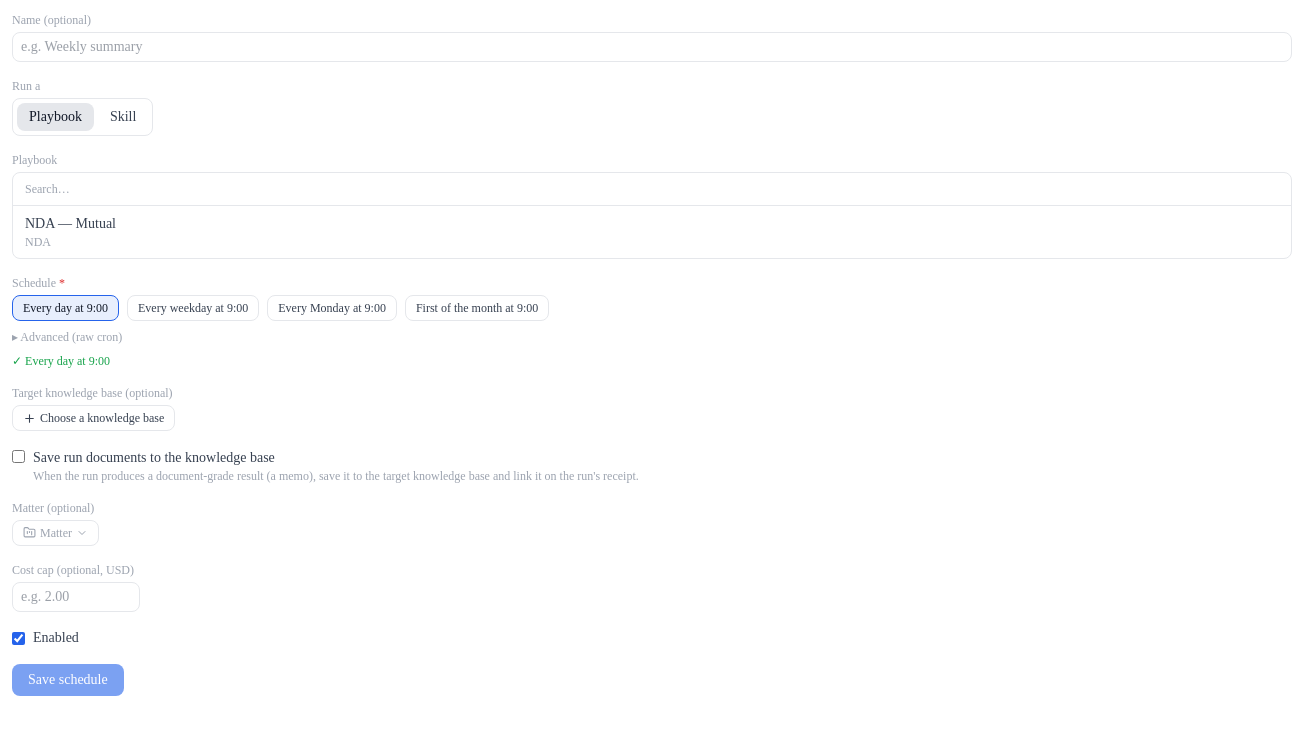
Test case: ScheduleForm › enables Save only once a source is chosen and the cron is valid
The image size is (1304, 732).
Expected: the button "Save schedule" is disabled, left=12, top=664, right=124, bottom=696
Click the button "NDA — Mutual NDA" at (70, 224), box left=13, top=206, right=1291, bottom=258
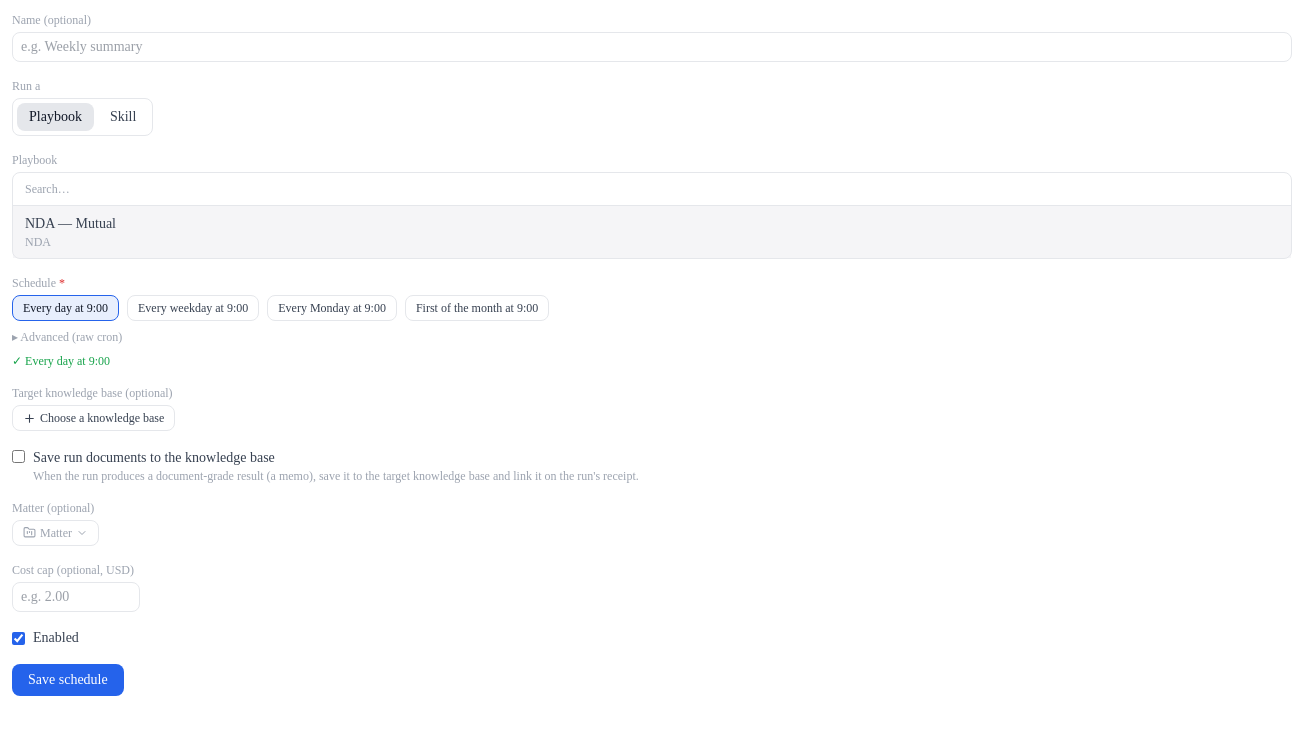
Result: the button "Save schedule" is enabled at left=12, top=664, right=124, bottom=696
